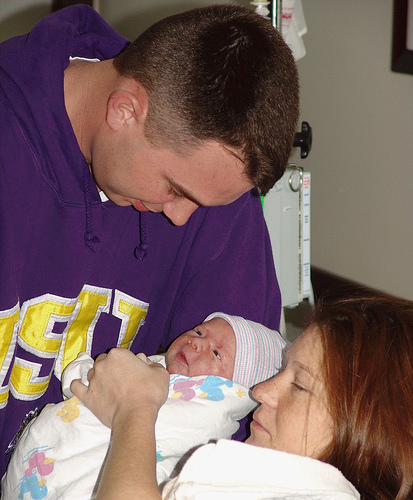without_mask: (101, 34, 280, 244), (242, 314, 361, 464), (164, 305, 252, 390)
